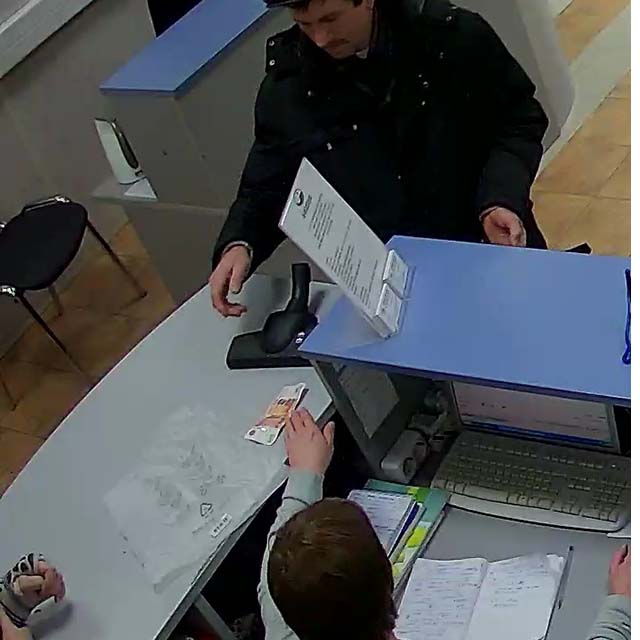banknotes: (239, 379, 306, 446)
